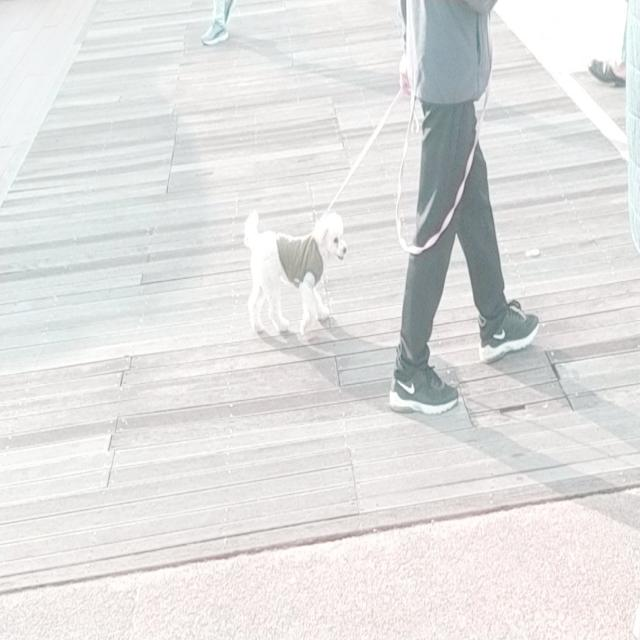Leashed_Dog: (244, 0, 450, 337)
